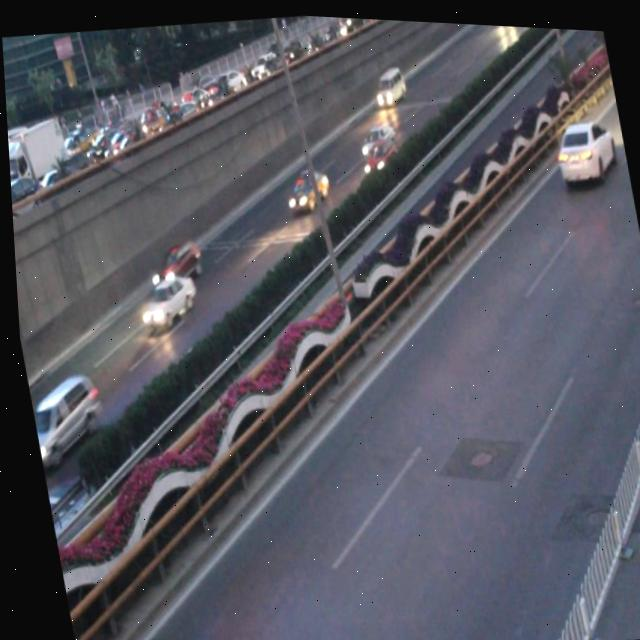car: (549, 110, 618, 181), (129, 268, 198, 332), (144, 233, 203, 287), (276, 158, 331, 213), (355, 132, 398, 171), (353, 117, 397, 155)
truck: (22, 367, 104, 465), (367, 60, 409, 106)
